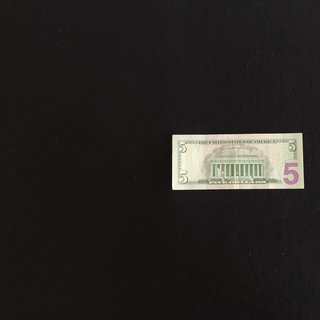5USDBack: (171, 132, 304, 190)
